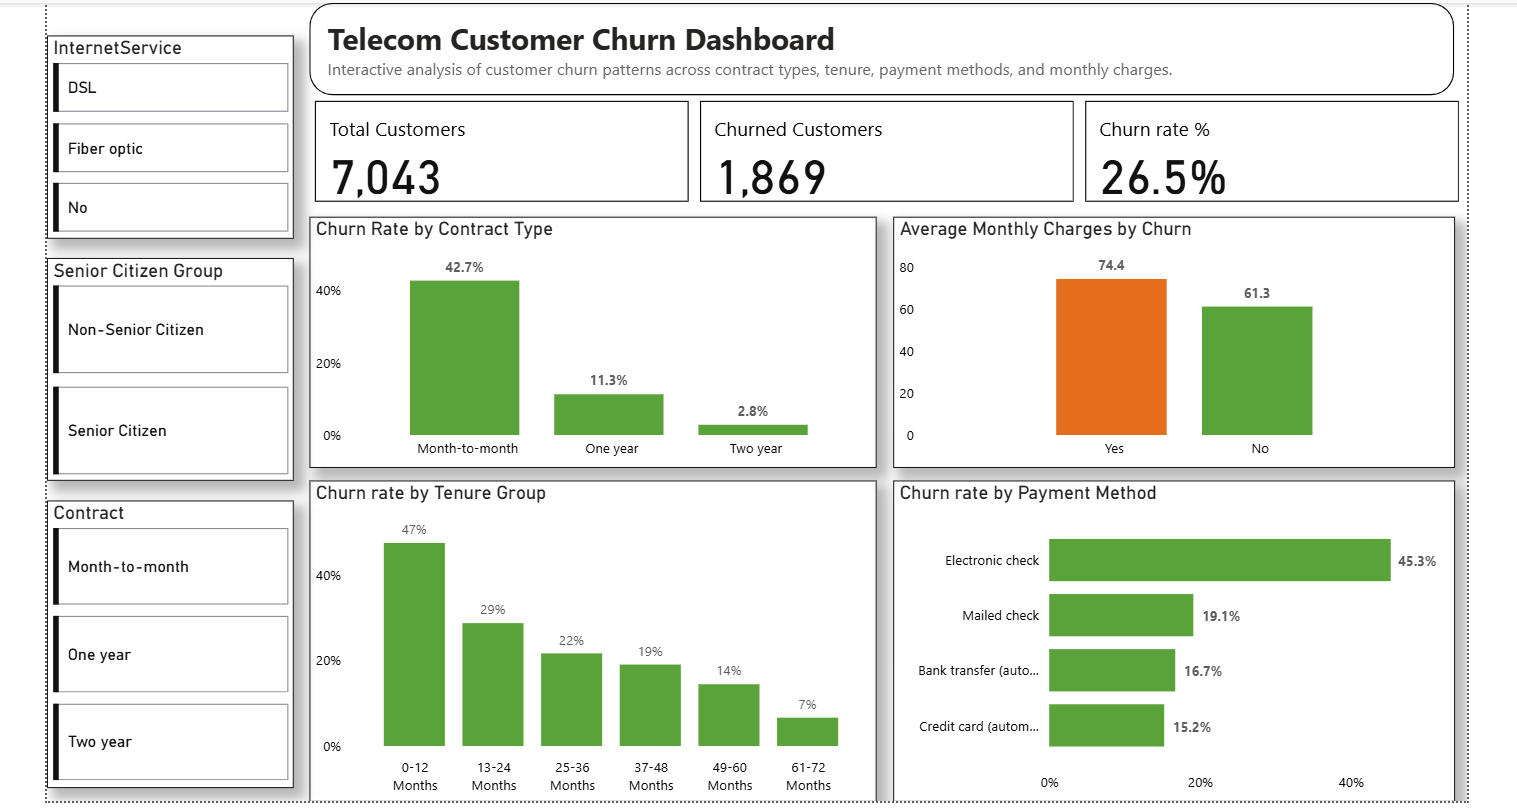

What the dashboard file says about the page in this screenshot:
{"tool":"powerbi","page":{"name":"Page 1","canvas":[1280,720],"ordinal":0},"visuals":[{"type":"columnChart","title":"Churn Rate by Contract Type","fields":{"Category":["Customers.Contract"],"Y":["Customers.Churn rate %"]},"box":[237.1,193.1,511,226.1],"z":0},{"type":"clusteredColumnChart","title":"Churn rate by Tenure Group","fields":{"Y":["Customers.Churn rate %"],"Category":["Customers.Tenure Group"]},"box":[237.1,430.3,511,289.7],"z":1000},{"type":"clusteredColumnChart","title":"Average Monthly Charges by Churn","fields":{"Category":["Customers.Churn"],"Y":["Avg(Customers.MonthlyCharges)"]},"box":[762.8,193.1,506.1,226.1],"z":2000},{"type":"cardVisual","fields":{"Data":["Customers.Total Customers","Customers.Churned Customers","Customers.Churn rate %"]},"box":[237.1,83.1,1042.7,101.5],"z":3000},{"type":"advancedSlicerVisual","fields":{"Values":["Customers.InternetService"]},"box":[0,29.3,222.5,183.4],"z":4000},{"type":"advancedSlicerVisual","fields":{"Values":["Customers.Contract"]},"box":[0,448.6,222.5,259.2],"z":5000},{"type":"advancedSlicerVisual","fields":{"Values":["Customers.Senior Citizen Group"]},"box":[0,229.8,222.5,200.5],"z":6000},{"type":"shape","box":[237.1,0,1031.7,83.1],"z":7000},{"type":"textbox","box":[248.1,8.6,1012.2,66],"z":8000},{"type":"clusteredBarChart","title":"Churn rate by Payment Method","fields":{"Category":["Customers.PaymentMethod"],"Y":["Customers.Churn rate %"]},"box":[762.8,430.3,506.1,289.7],"z":9000}]}

Visuals, with their boxes in screenshot pixels (x1, y1, x2, y2):
"Churn Rate by Contract Type" columnChart: (310,214,877,465)
"Churn rate by Tenure Group" clusteredColumnChart: (310,477,877,799)
"Average Monthly Charges by Churn" clusteredColumnChart: (894,214,1455,465)
cardVisual - Customers.Total Customers x Customers.Churned Customers: (310,92,1467,205)
advancedSlicerVisual - Customers.InternetService: (47,33,294,236)
advancedSlicerVisual - Customers.Contract: (47,498,294,785)
advancedSlicerVisual - Customers.Senior Citizen Group: (47,255,294,477)
shape: (310,0,1455,92)
textbox: (323,10,1445,83)
"Churn rate by Payment Method" clusteredBarChart: (894,477,1455,799)
